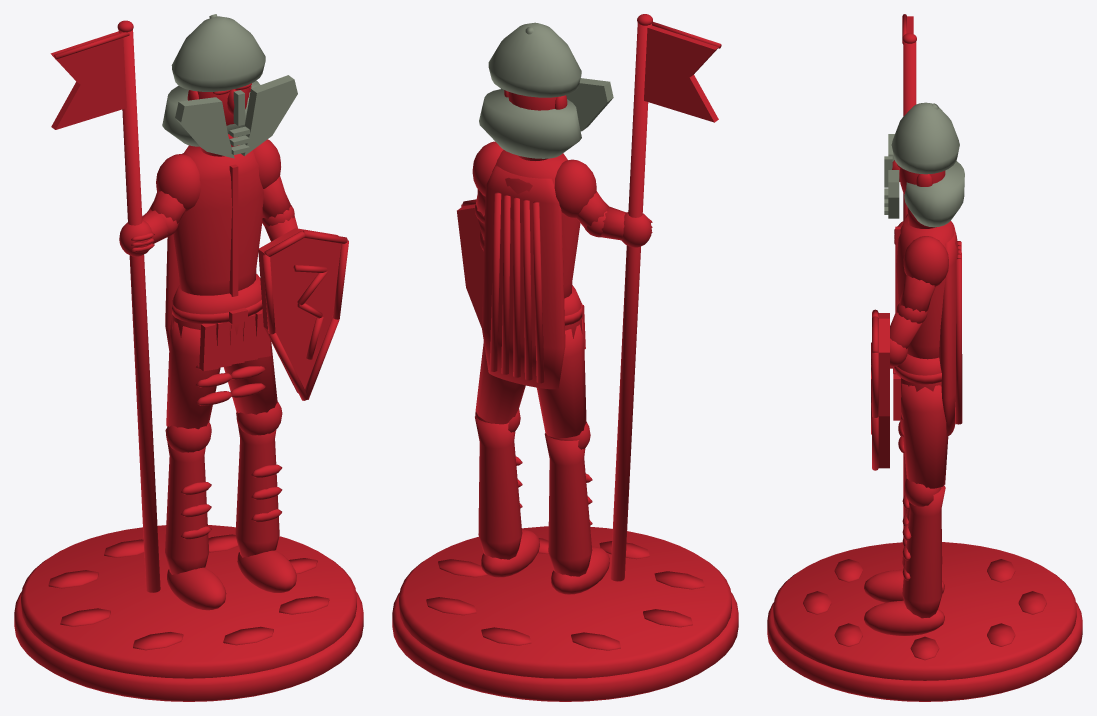
File: knight-level-2-active.fbx
The picture shows the model from 3 angles, left to right: view 1: azimuth 30°, elevation 25°; view 2: azimuth 150°, elevation 25°; view 3: azimuth 270°, elevation 25°; orthographic projection. The views are drawn at different scales.
Parts seen in each view (by area): view 1: Knight_Level_2_Helmet_Sculpt; view 2: Knight_Level_2_Helmet_Sculpt; view 3: Knight_Level_2_Helmet_Sculpt.
Part boxes in pixels (box(x1,y1,x2,y2)): Knight_Level_2_Helmet_Sculpt: box(14, 14, 363, 701); Knight_Level_2_Helmet_Sculpt: box(392, 14, 738, 701); Knight_Level_2_Helmet_Sculpt: box(767, 14, 1082, 701).
Bounding box in the file's own units: 0.012 × 0.024 × 0.012.
